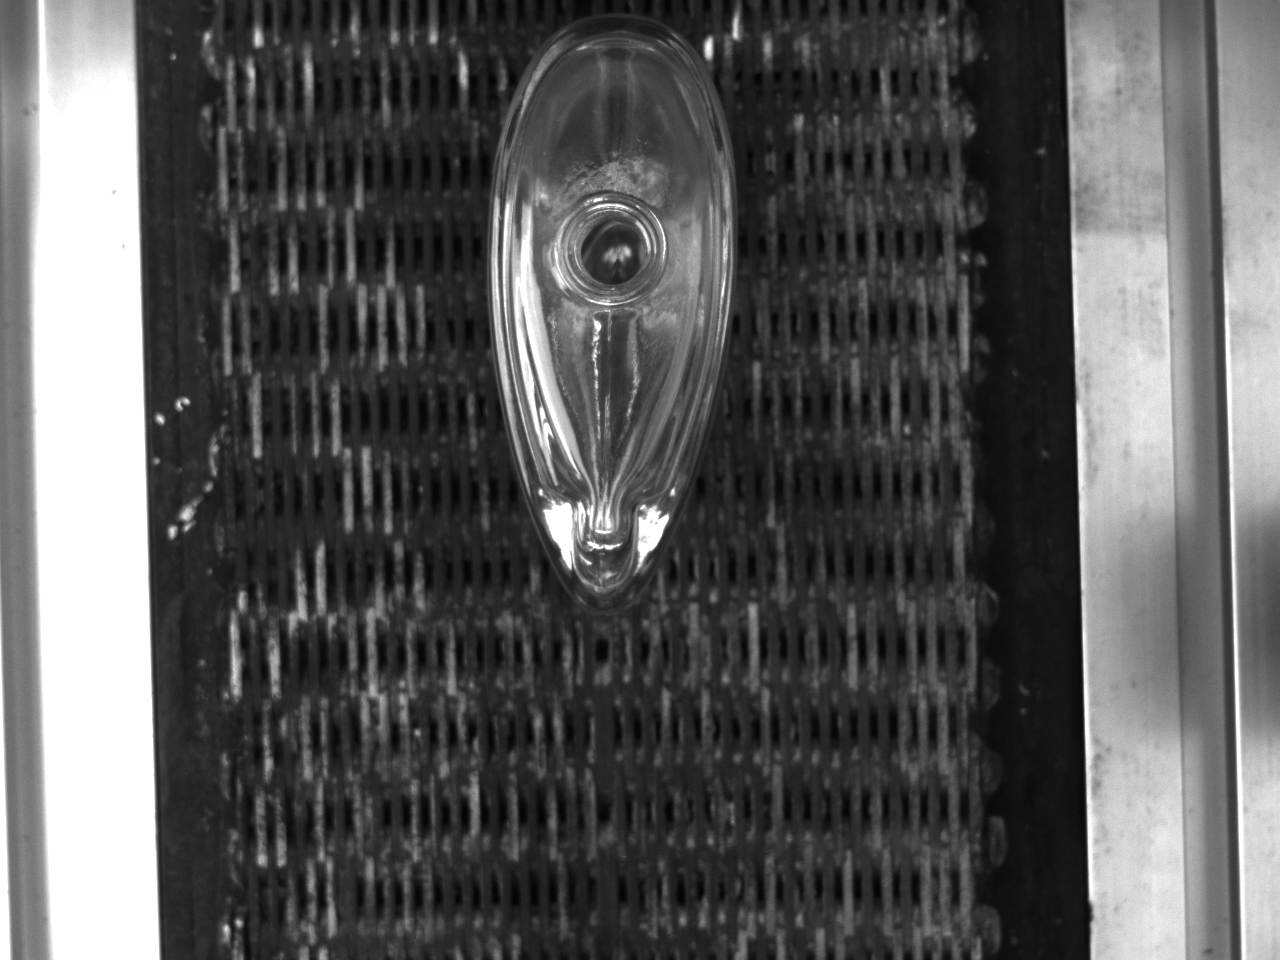bottleneck: (556, 192, 668, 306)
